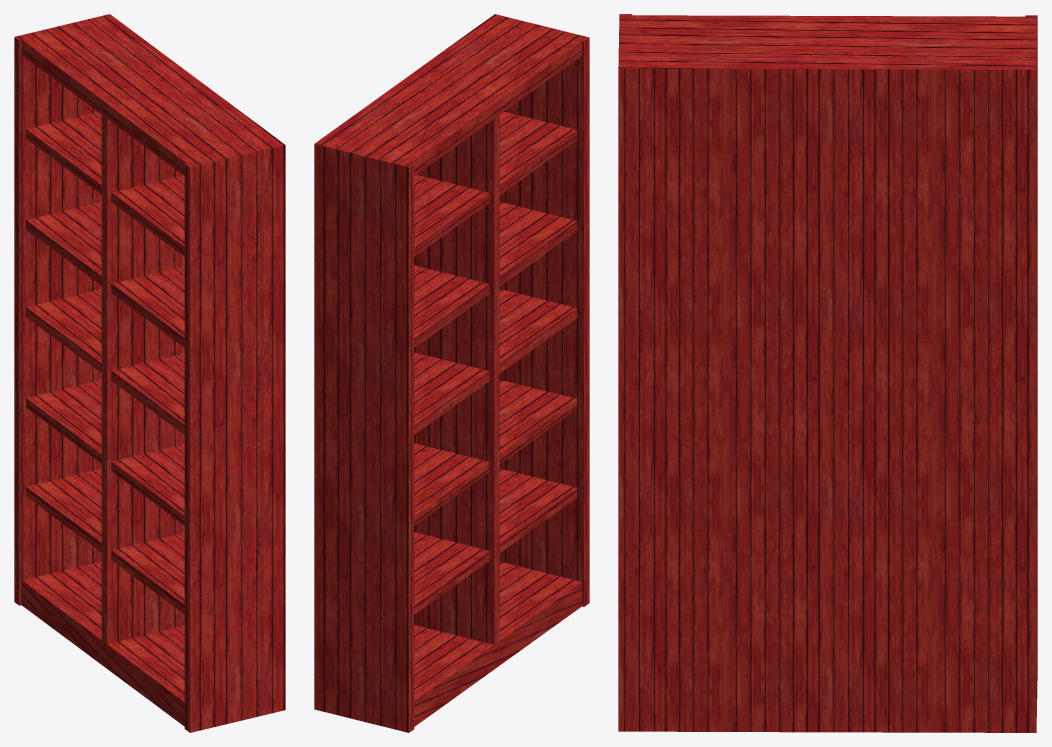
The model's file is mueblem.obj.
3 renders of one model, left to right at view 1: azimuth 30°, elevation 25°; view 2: azimuth 150°, elevation 25°; view 3: azimuth 270°, elevation 25°, orthographic. The views are drawn at different scales.
Parts seen in each view (by area): view 1: Plane01, Object03, Object02, Object01, Object04, Box03; view 2: Plane01, Object03, Object02, Object01, Object04, Box03; view 3: Box03, Object02, Plane01.
Part boxes in pixels (x1,y1,x2,y2): Plane01: (14, 15, 280, 732); Object03: (26, 112, 184, 604); Object02: (21, 19, 274, 726); Object01: (101, 115, 184, 643); Object04: (26, 129, 184, 614); Box03: (105, 14, 285, 710); Plane01: (319, 15, 589, 732); Object03: (414, 111, 576, 604); Object02: (324, 19, 581, 726); Object01: (414, 115, 499, 644); Object04: (414, 130, 577, 614); Box03: (314, 14, 499, 710); Box03: (618, 65, 1036, 732); Object02: (631, 15, 1025, 66); Plane01: (618, 14, 1037, 717).
Bounding box in the file's own units: 6.99 × 38.69 × 22.16.
Materials: 1 (1 with a texture image).
